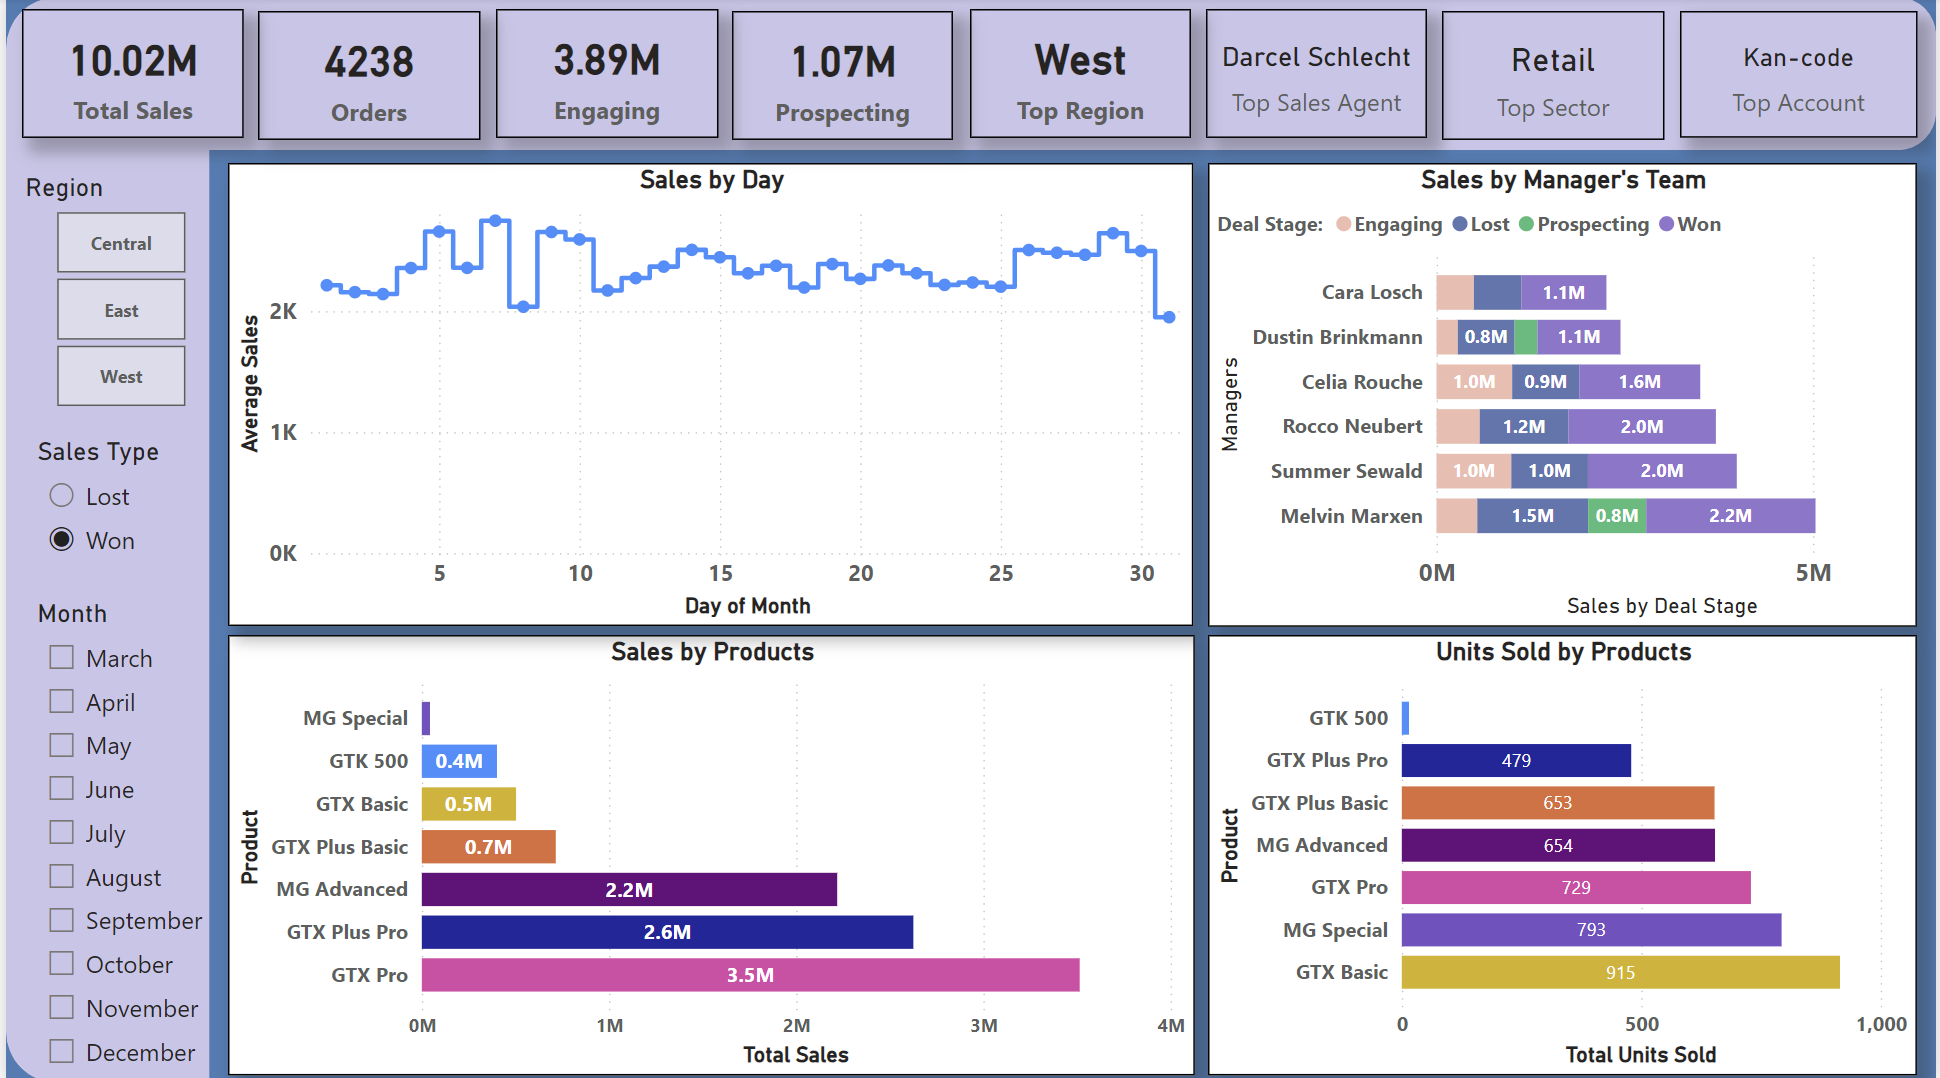

Layout of this report page (visuals, bound fields, positions):
{"tool":"powerbi","page":{"name":"Sales Dashboard","canvas":[1280,720],"ordinal":0},"visuals":[{"type":"shape","box":[118.3,0,1161.7,101.7],"z":0},{"type":"shape","box":[0,0,135,720],"z":1000},{"type":"card","fields":{"Values":["master_table.sales_agent"]},"box":[795.3,8,146.7,85.3],"z":2000},{"type":"card","title":"Top Sales Account","fields":{"Values":["master_table.account"]},"box":[1109.3,8.7,157.3,84],"z":3000},{"type":"card","title":"Most popular","fields":{"Values":["master_table.sector"]},"box":[952,9.3,147.3,85.3],"z":4000},{"type":"slicer","title":"Sales Type","fields":{"Values":["master_table.deal_stage"]},"box":[15.7,291.3,135.7,94.3],"z":5000},{"type":"slicer","title":"Region","fields":{"Values":["master_table.regional_office"]},"box":[8.3,116.7,135,161.7],"z":6000},{"type":"slicer","title":"Month","fields":{"Values":["master_table.close_date.Variation.Date Hierarchy.Month"]},"box":[15.7,398.6,134.3,321.4],"z":7000},{"type":"card","fields":{"Values":["master_table.potential_sale"]},"box":[10,8.6,147.1,85.7],"z":8000},{"type":"barChart","title":"Sales by Products","fields":{"Category":["master_table.product"],"Y":["master_table.potential_sale"],"Series":["master_table.product"]},"box":[147.3,423.6,640.9,291.8],"z":9000},{"type":"lineChart","title":"Sales by Day","fields":{"Y":["master_table.potential_sale"],"Category":["master_table.close_date.Variation.Date Hierarchy.Day"]},"box":[147.1,110,640,307.1],"z":10000},{"type":"barChart","title":"Sales by Manager''s Team","fields":{"Category":["master_table.manager"],"Y":["master_table.potential_sale"],"Series":["master_table.deal_stage"]},"box":[797.3,110,470,307.3],"z":11000},{"type":"card","fields":{"Values":["master_table.potential_sale"]},"box":[167.2,8.7,147.3,85.3],"z":12000},{"type":"card","fields":{"Values":["master_table.potential_sale"]},"box":[481.9,8.7,146.7,85.3],"z":13000},{"type":"card","fields":{"Values":["master_table.potential_sale"]},"box":[324.5,8,147.3,85.3],"z":14000},{"type":"barChart","title":"Units Sold by Products","fields":{"Category":["master_table.product"],"Y":["master_table.close_value"],"Series":["master_table.product"]},"box":[797.3,423.6,470,291.8],"z":15000},{"type":"card","fields":{"Values":["master_table.regional_office"]},"box":[638.6,8,146.7,85.3],"z":16000}]}

Visuals, with their boxes in screenshot pixels (x1, y1, x2, y2), scaled from the page's 1280x720 canvas onto the 1940x1078 screenshot:
shape: x1=179 y1=0 x2=1939 y2=152
shape: x1=0 y1=0 x2=205 y2=1077
card - master_table.sales_agent: x1=1205 y1=12 x2=1428 y2=140
"Top Sales Account" card: x1=1681 y1=13 x2=1920 y2=139
"Most popular" card: x1=1443 y1=14 x2=1666 y2=142
"Sales Type" slicer: x1=24 y1=436 x2=229 y2=577
"Region" slicer: x1=13 y1=175 x2=217 y2=417
"Month" slicer: x1=24 y1=597 x2=227 y2=1077
card - master_table.potential_sale: x1=15 y1=13 x2=238 y2=141
"Sales by Products" barChart: x1=223 y1=634 x2=1195 y2=1071
"Sales by Day" lineChart: x1=223 y1=165 x2=1193 y2=624
"Sales by Manager''s Team" barChart: x1=1208 y1=165 x2=1921 y2=625
card - master_table.potential_sale: x1=253 y1=13 x2=477 y2=141
card - master_table.potential_sale: x1=730 y1=13 x2=953 y2=141
card - master_table.potential_sale: x1=492 y1=12 x2=715 y2=140
"Units Sold by Products" barChart: x1=1208 y1=634 x2=1921 y2=1071
card - master_table.regional_office: x1=968 y1=12 x2=1190 y2=140
